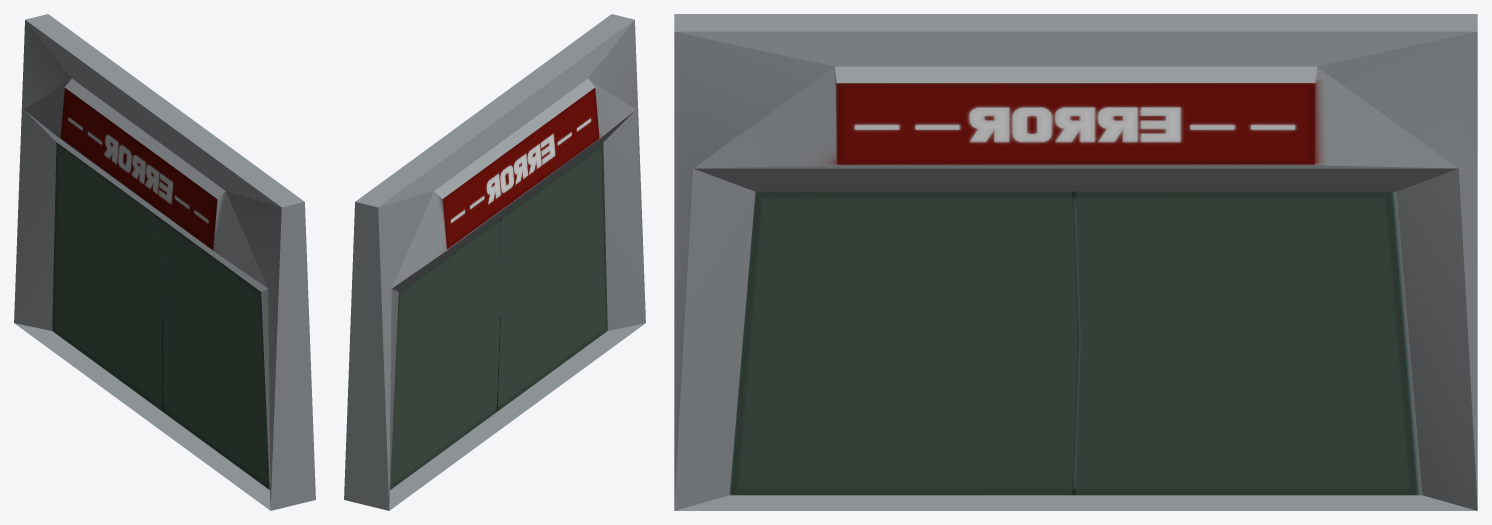
Rendered from doorerror.obj.
3 renders of one model, left to right at view 1: azimuth 30°, elevation 25°; view 2: azimuth 150°, elevation 25°; view 3: azimuth 270°, elevation 25°, orthographic. The views are drawn at different scales.
Parts seen in each view (by area): view 1: pCube1; view 2: pCube1; view 3: pCube1.
Boxes of the visible parts, x1,y1,x2,y2 form: pCube1: (14,14,315,510); pCube1: (344,14,645,510); pCube1: (674,14,1477,510).
Size of the model in its own units: 0.708 by 3.6 by 5.57.
1 material, 1 textured.
